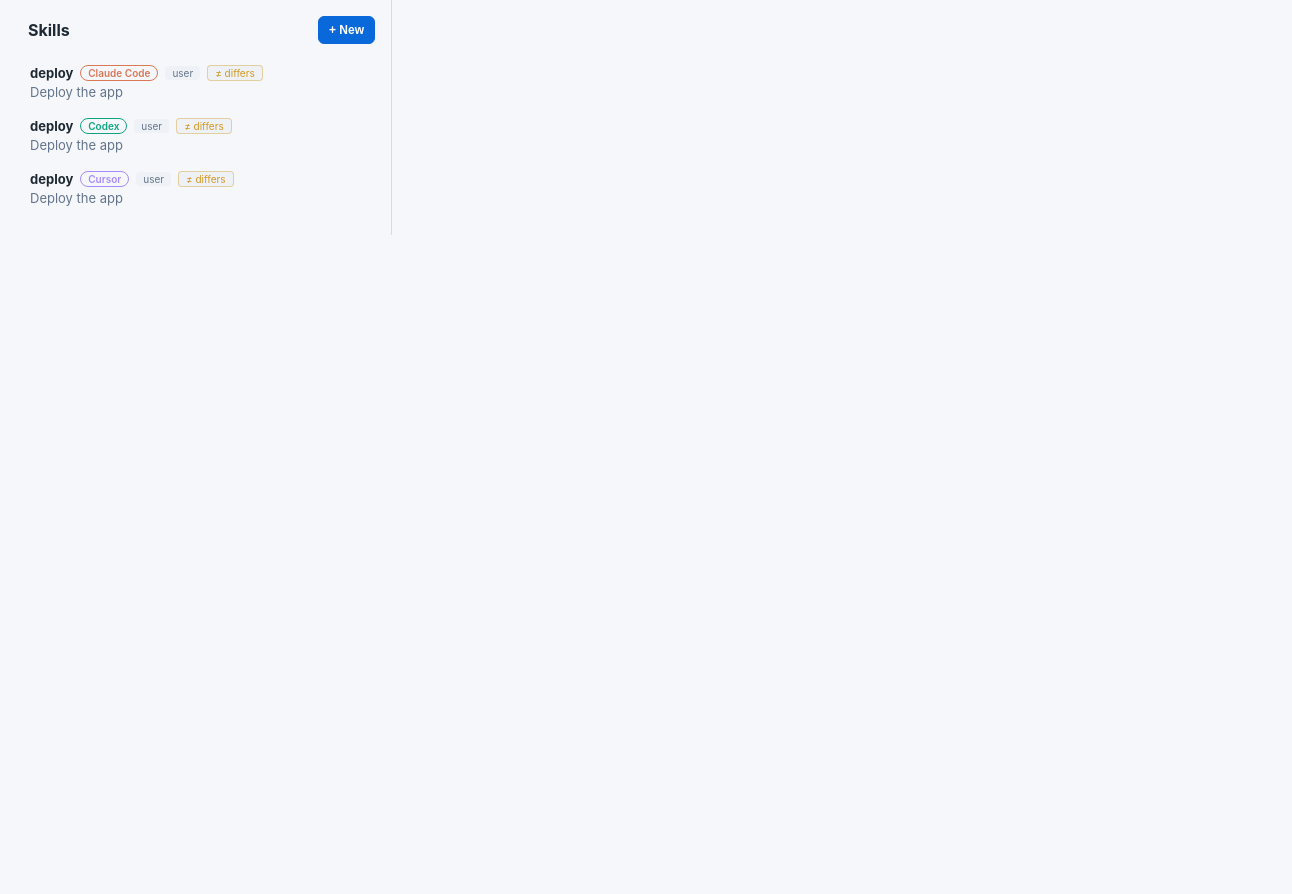
Test case: Skill comparison › lets the user pick between several counterparts
Click the button "deploy" at (202, 82), box left=14, top=56, right=391, bottom=109
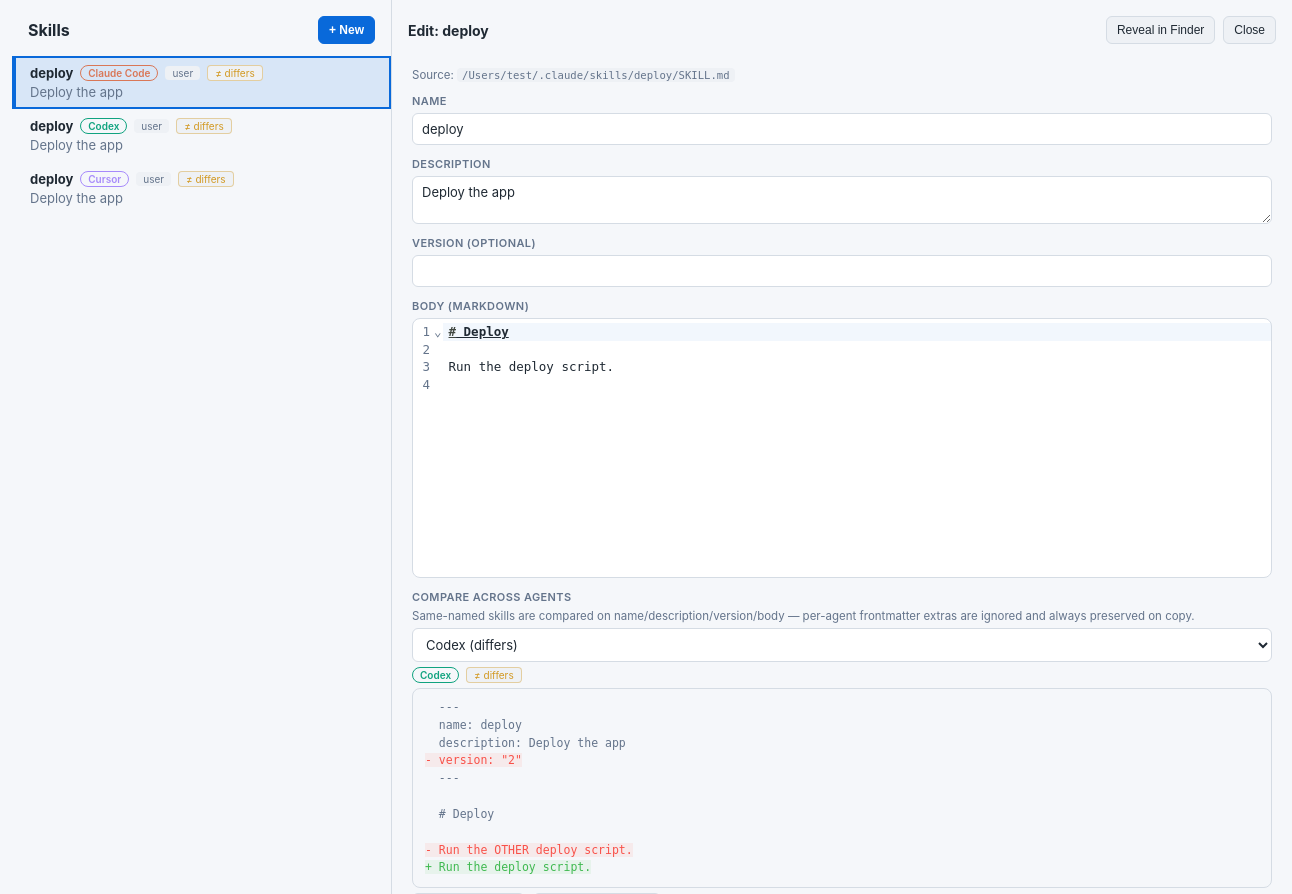
Select "Cursor (synced)" in the dropdown at (842, 645), box left=412, top=628, right=1272, bottom=662
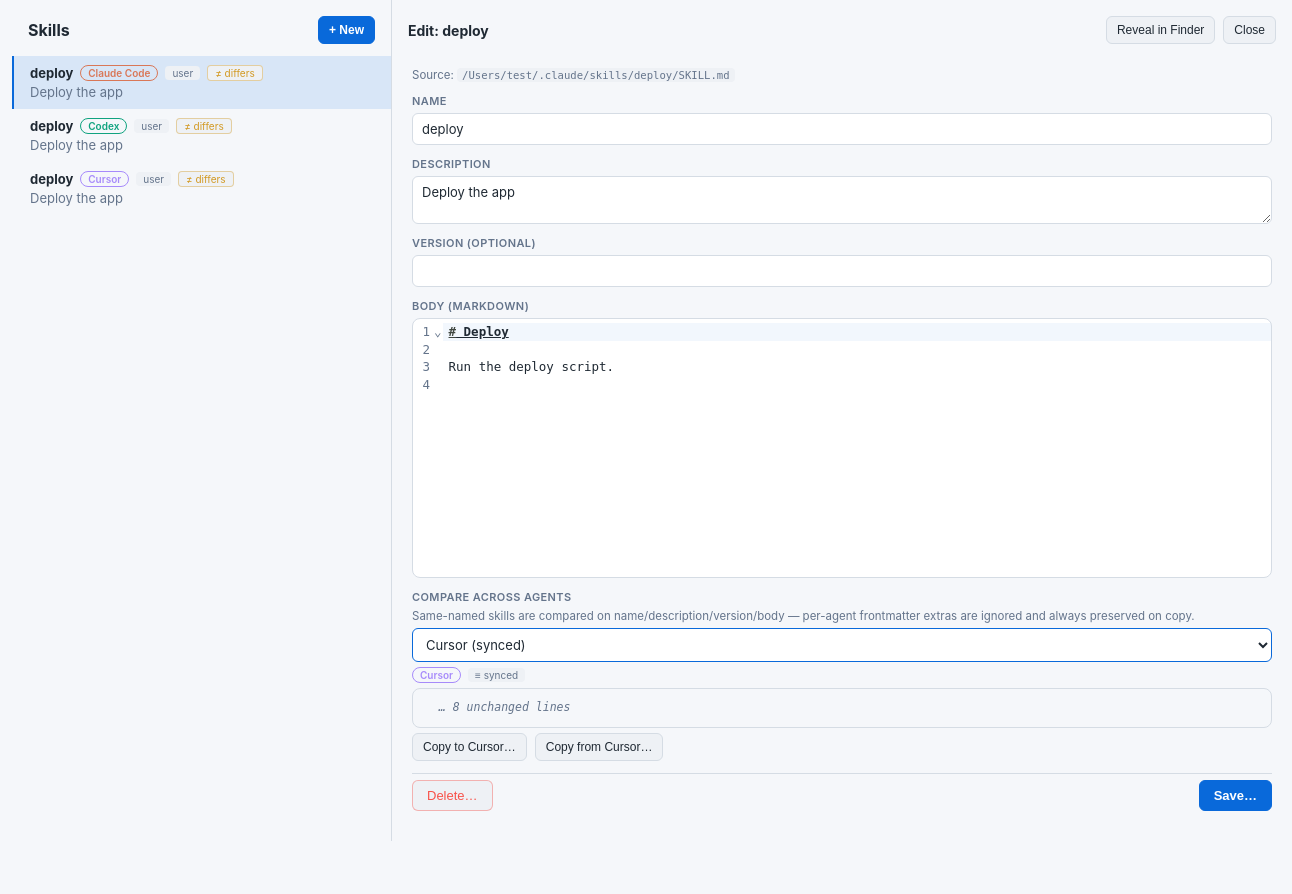
expect the button "Copy to Cursor…" is shown: met, box left=412, top=733, right=527, bottom=761
expect the text "≡ synced" is shown: met, box left=468, top=668, right=525, bottom=682
